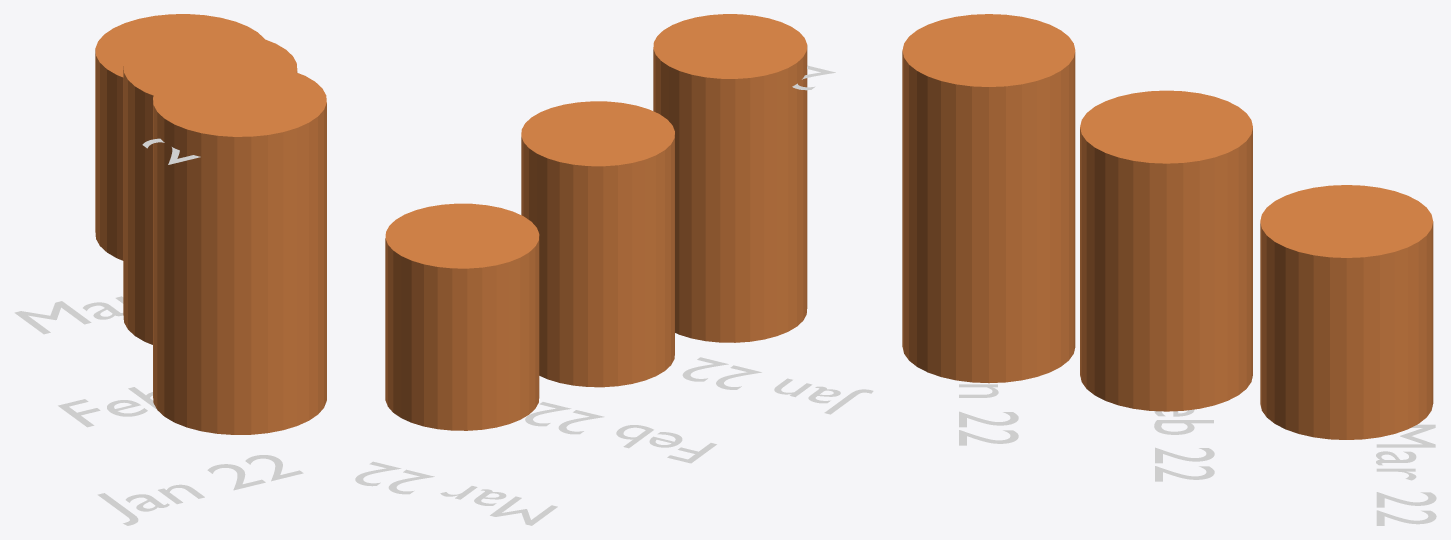
File: barchart01.glb
The picture shows the model from 3 angles, left to right: view 1: azimuth 30°, elevation 25°; view 2: azimuth 150°, elevation 25°; view 3: azimuth 270°, elevation 25°; orthographic projection. The views are drawn at different scales.
Parts seen in each view (by area): view 1: Cylinder.002, Text, Text.002, Text.001; view 2: Cylinder.002, Text.002, Text.001, Text; view 3: Cylinder.002, Text.002, Text.001, Text.
Part boxes in pixels (x1,y1,x2,y2): Cylinder.002: (95,14,326,434); Text: (97,455,303,525); Text.002: (14,296,123,334); Text.001: (58,387,156,427); Cylinder.002: (385,14,807,430); Text.002: (355,461,557,525); Text.001: (525,402,716,463); Text: (682,357,873,414); Cylinder.002: (902,14,1433,439); Text.002: (1376,424,1436,525); Text.001: (1154,409,1214,481); Text: (959,381,1018,445).
Size of the model in its own units: 4.6 by 4.77 by 6.17.
